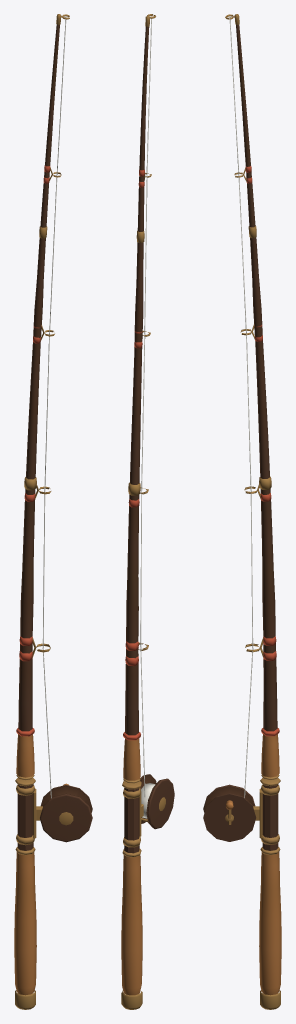
File: tool_fishing_rod_a.glb
3 views of the same model, side by side, from view 1: azimuth 90°, elevation 25°; view 2: azimuth 150°, elevation 25°; view 3: azimuth 270°, elevation 25° (orthographic).
Parts seen in each view (by area): view 1: tool_fishing_rod_a_mesh, rod_reel_spool; view 2: tool_fishing_rod_a_mesh, rod_reel_line_coil, rod_reel_spool; view 3: tool_fishing_rod_a_mesh, rod_reel_spool.
Boxes of the visible parts, x1=… form: tool_fishing_rod_a_mesh: x1=14, y1=17, x2=92, y2=1009; rod_reel_spool: x1=40, y1=785, x2=92, y2=812; tool_fishing_rod_a_mesh: x1=121, y1=16, x2=174, y2=1009; rod_reel_line_coil: x1=141, y1=783, x2=155, y2=818; rod_reel_spool: x1=140, y1=774, x2=161, y2=827; tool_fishing_rod_a_mesh: x1=203, y1=17, x2=281, y2=1009; rod_reel_spool: x1=203, y1=786, x2=256, y2=841.
Bounding box in the file's own units: 0.0919 × 2.62 × 0.1875.
